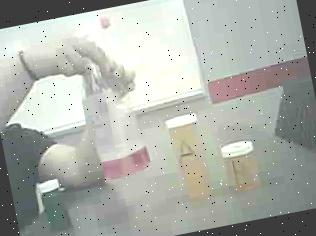Bottle A: (160, 106, 219, 213)
Bottle B: (216, 131, 268, 198)
Bottle C: (36, 172, 78, 236)
hazard: (60, 10, 160, 190)
